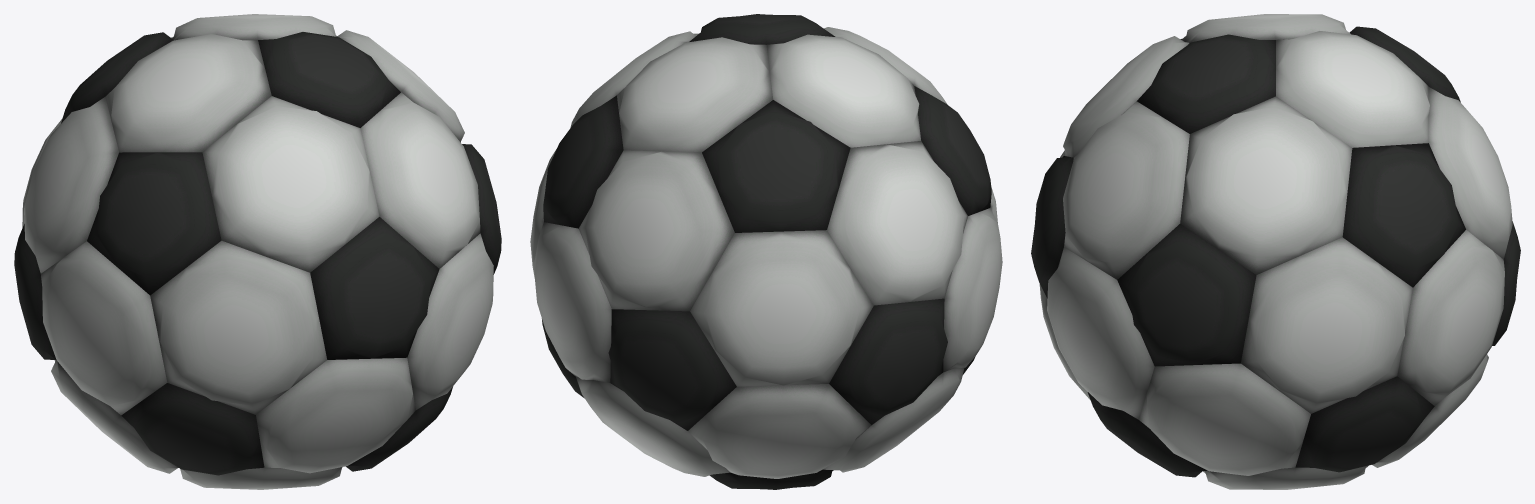
Rendered from soccer_ball2.obj.
3 views of the same model, side by side, from view 1: azimuth 30°, elevation 25°; view 2: azimuth 150°, elevation 25°; view 3: azimuth 270°, elevation 25° (orthographic). The views are drawn at different scales.
Parts seen in each view (by area): view 1: mesh_0; view 2: mesh_0; view 3: mesh_0.
Part boxes in pixels (x1,y1,x2,y2): mesh_0: (14, 14, 501, 489); mesh_0: (530, 14, 1002, 489); mesh_0: (1031, 14, 1520, 489).
Size of the model in its own units: 1 by 0.9981 by 1.01.
1 material, 1 textured.
